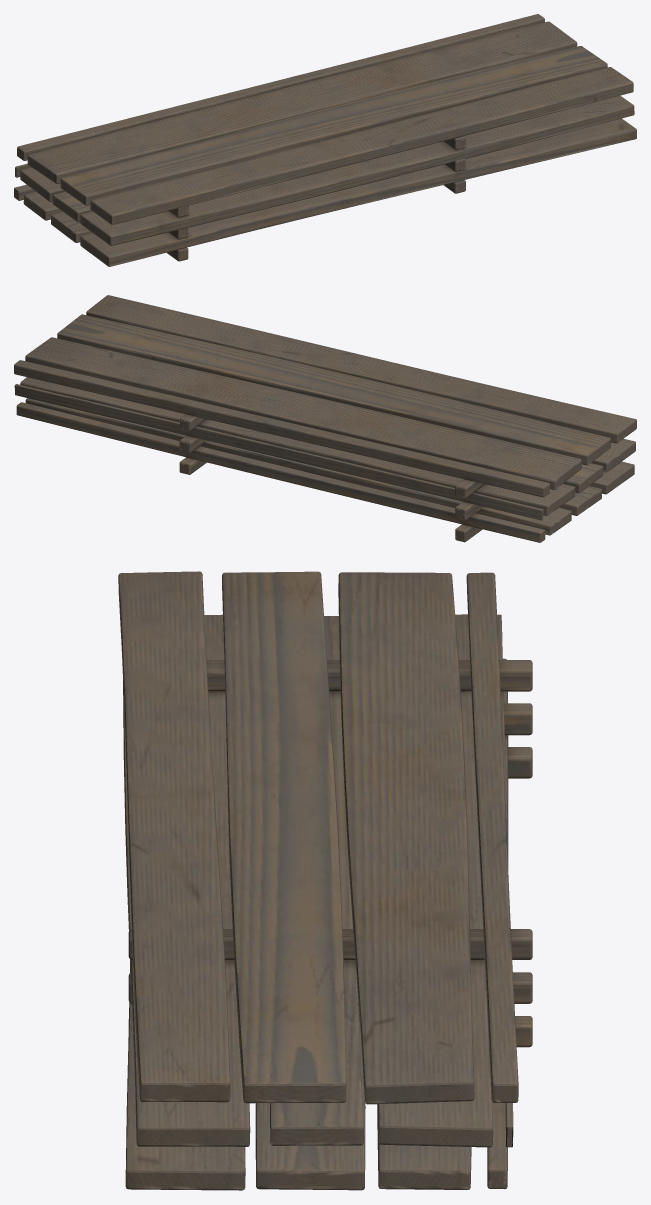
The model's file is plank_stack.glb.
3 renders of one model, top to bottom at view 1: azimuth 30°, elevation 25°; view 2: azimuth 150°, elevation 25°; view 3: azimuth 270°, elevation 25°, orthographic. The views are drawn at different scales.
Visible parts, largest first — view 1: plank_stack; view 2: plank_stack; view 3: plank_stack.
Part boxes in pixels (left/top/right/bottom): plank_stack: left=14, top=14, right=636, bottom=266; plank_stack: left=14, top=295, right=636, bottom=542; plank_stack: left=118, top=571, right=532, bottom=1190.
Bounding box in the file's own units: 2.4 × 0.2903 × 0.8208.
Materials: 1 (1 with a texture image).
